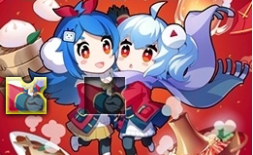gap: (85, 77, 125, 113)
